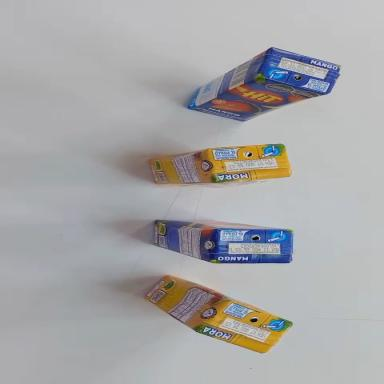HIT-MANGO: (179, 29, 346, 136), (150, 214, 295, 272)
HIT-MORA: (139, 267, 294, 364), (149, 142, 292, 190)
cara_F: (189, 58, 327, 136), (157, 213, 290, 238)
